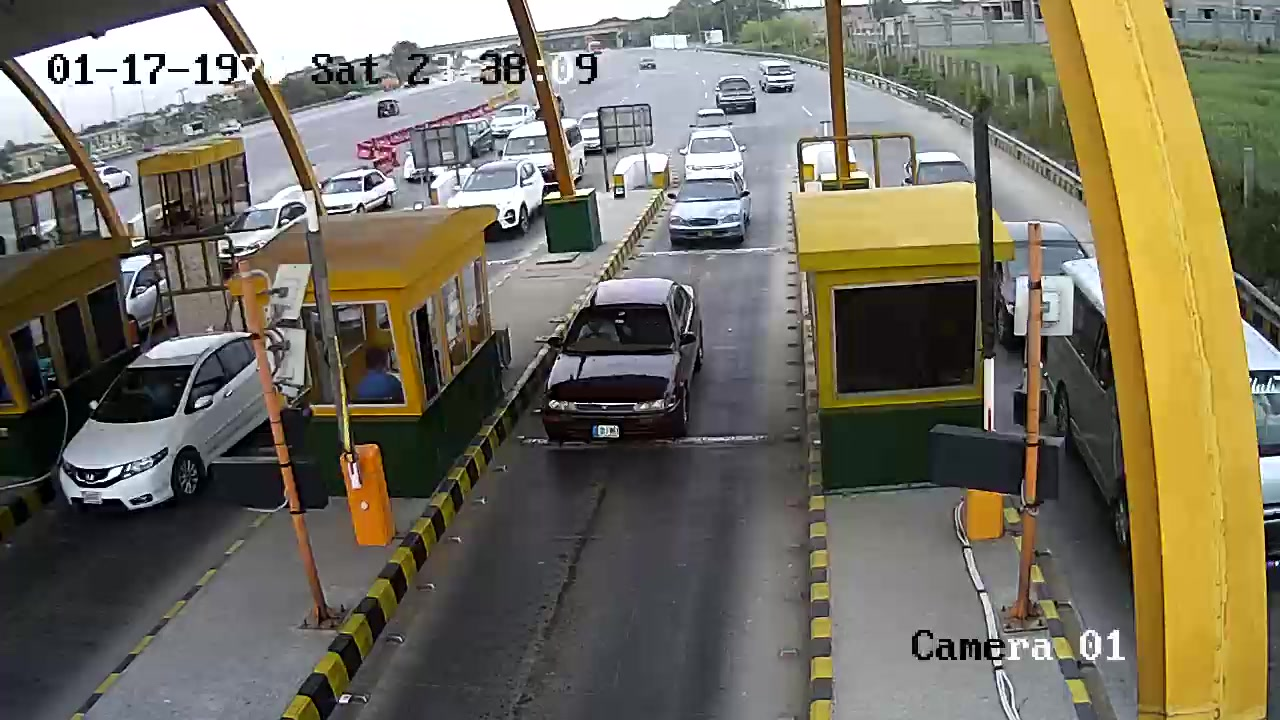F1: (525, 263, 725, 460)
